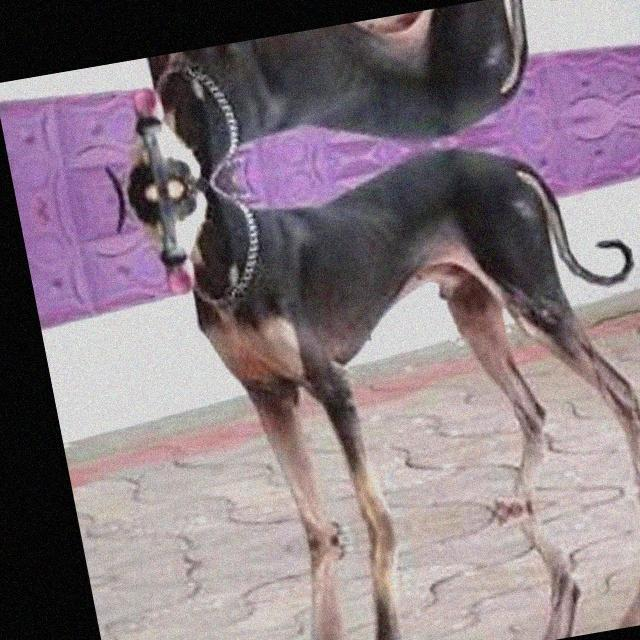dog: (115, 116, 640, 554), (90, 0, 603, 198), (189, 495, 640, 640)
